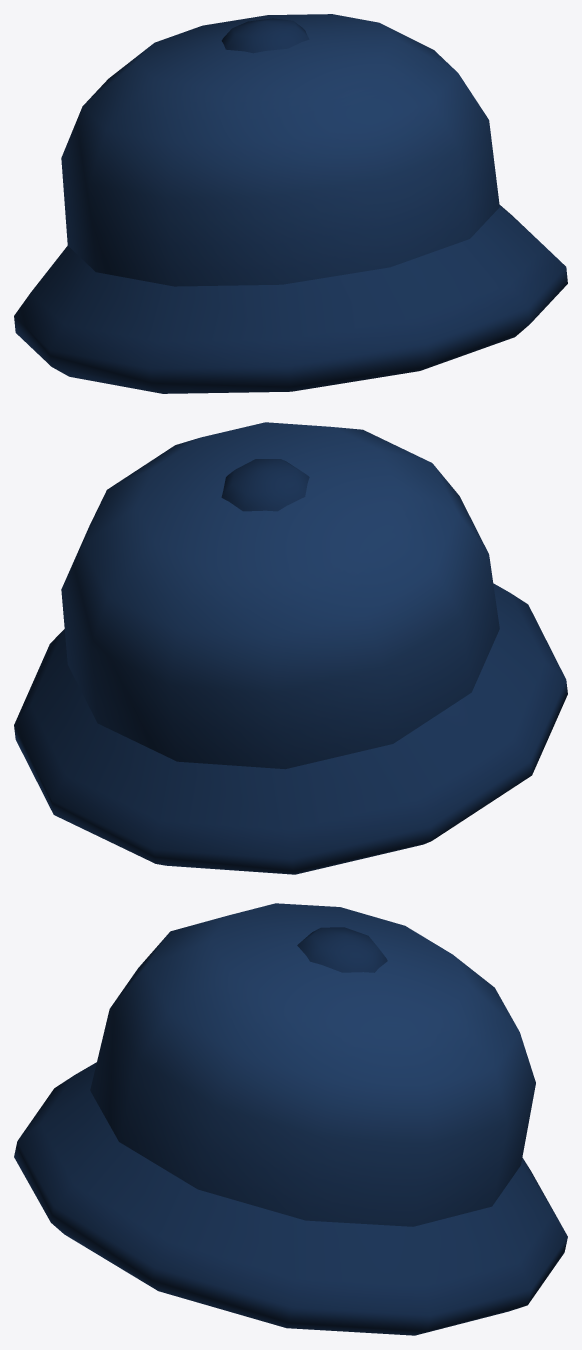
Rendered from Headgear_12.fbx.
3 renders of one model, top to bottom at view 1: azimuth 30°, elevation 25°; view 2: azimuth 150°, elevation 25°; view 3: azimuth 270°, elevation 25°, orthographic.
Parts seen in each view (by area): view 1: Headgear_12; view 2: Headgear_12; view 3: Headgear_12.
Part boxes in pixels (x1,y1,x2,y2): Headgear_12: [14, 14, 567, 393]; Headgear_12: [14, 422, 567, 874]; Headgear_12: [14, 903, 567, 1335].
Size of the model in its own units: 78.68 by 50.56 by 77.75.
